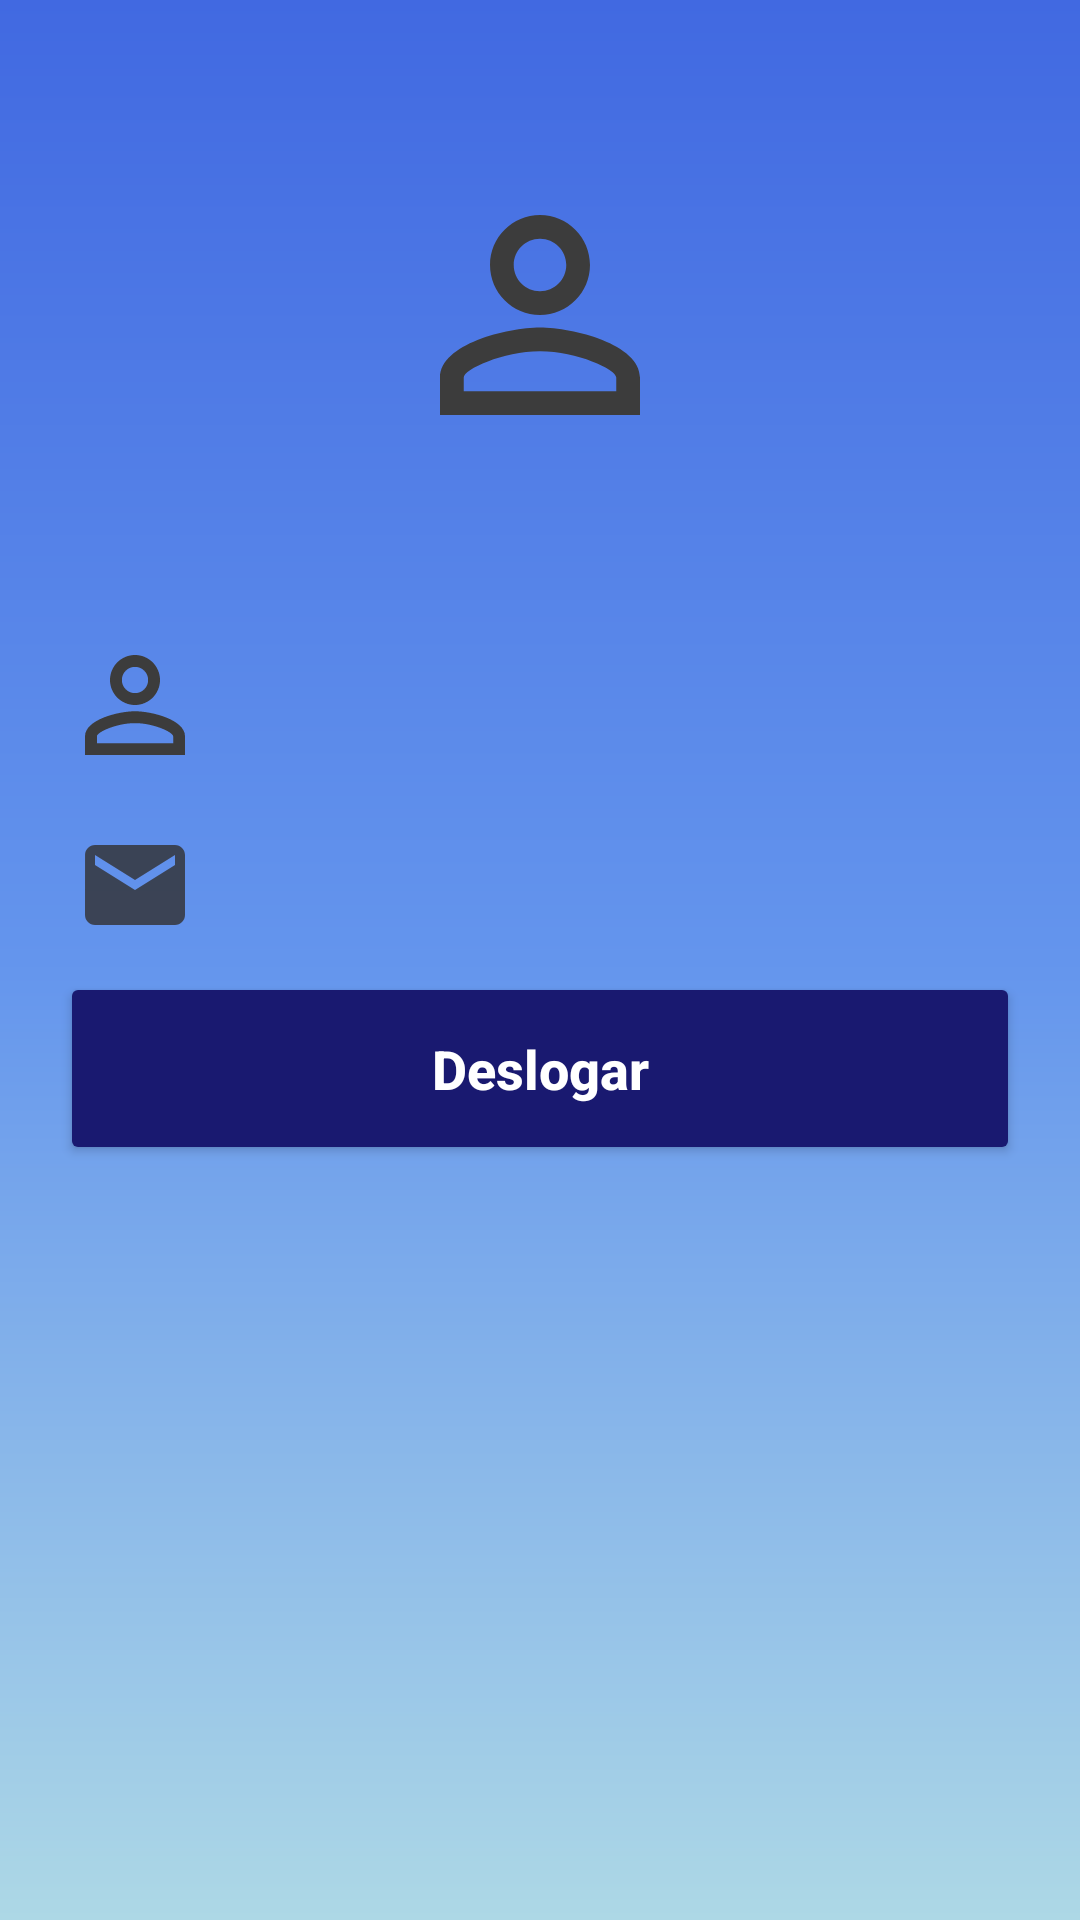

Where to tap for icons on this 1080*1920 app screen, as point (x, y):
email: point (135, 885)
user: point (540, 315), point (135, 705)
